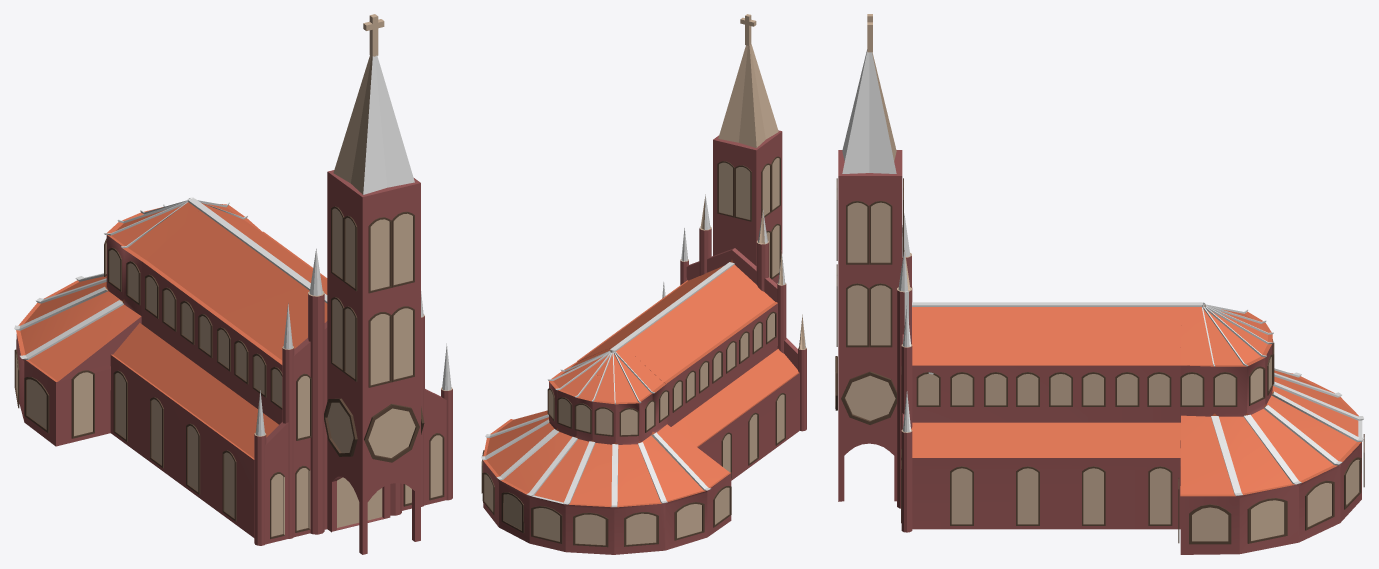
Rendered from church.fbx.
The picture shows the model from 3 angles, left to right: view 1: azimuth 30°, elevation 25°; view 2: azimuth 150°, elevation 25°; view 3: azimuth 270°, elevation 25°; orthographic projection. The views are drawn at different scales.
Visible parts, largest first — view 1: Chruch; view 2: Chruch; view 3: Chruch.
Part boxes in pixels (box(x1,y1,x2,y2)): Chruch: box(14, 14, 452, 554); Chruch: box(481, 14, 806, 554); Chruch: box(835, 14, 1364, 554).
Size of the model in its own units: 971 by 1591 by 1612.
